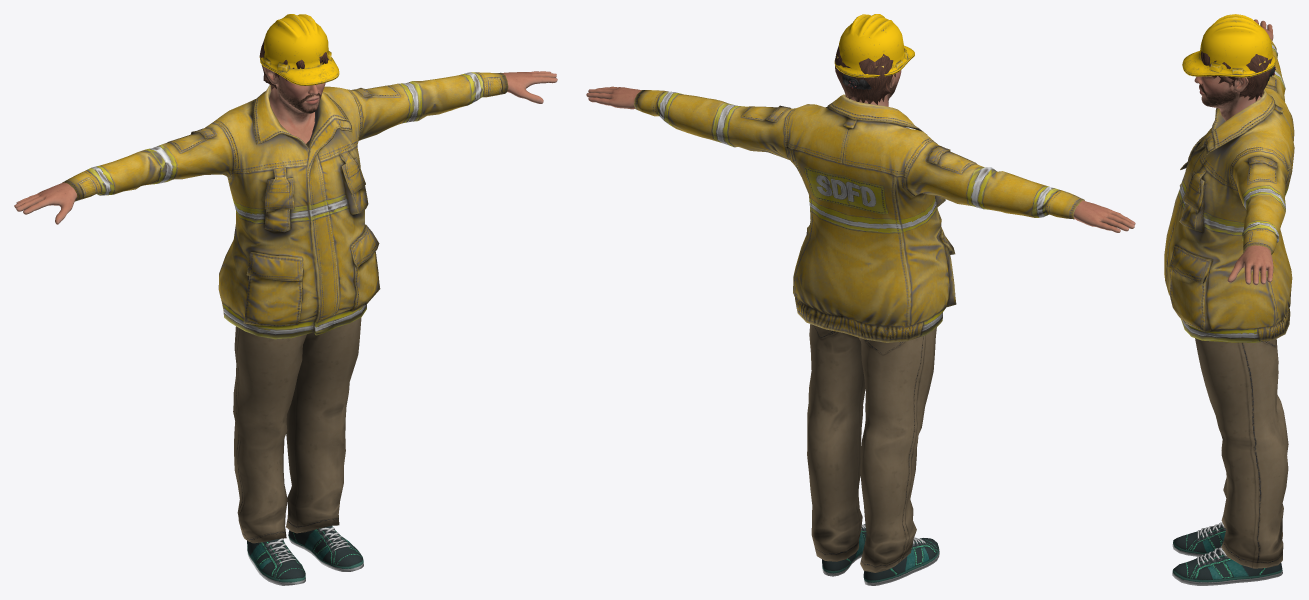
The model's file is man.obj.
The picture shows the model from 3 angles, left to right: view 1: azimuth 30°, elevation 25°; view 2: azimuth 150°, elevation 25°; view 3: azimuth 270°, elevation 25°; orthographic projection.
Parts seen in each view (by area): view 1: Tops, Bottoms, Body, Hats, Shoes; view 2: Tops, Bottoms, Hats, Body, Shoes, Hair; view 3: Tops, Bottoms, Hats, Shoes, Body, Hair.
Boxes of the visible parts, <box> form: Tops: <box>62,72,508,339</box>; Bottoms: <box>233,317,361,543</box>; Body: <box>14,66,557,224</box>; Hats: <box>259,14,339,85</box>; Shoes: <box>247,526,363,585</box>; Tops: <box>633,90,1084,342</box>; Bottoms: <box>807,324,936,572</box>; Hats: <box>834,14,914,89</box>; Body: <box>586,70,1135,232</box>; Shoes: <box>822,524,939,585</box>; Hair: <box>835,44,904,104</box>; Tops: <box>1164,38,1294,342</box>; Bottoms: <box>1195,338,1288,568</box>; Hats: <box>1182,14,1276,81</box>; Shoes: <box>1172,522,1282,585</box>; Body: <box>1194,19,1273,285</box>; Hair: <box>1201,51,1272,101</box>.
Bounding box in the file's own units: 192 × 184 × 39.69.
Materials: 6 (6 with a texture image).
